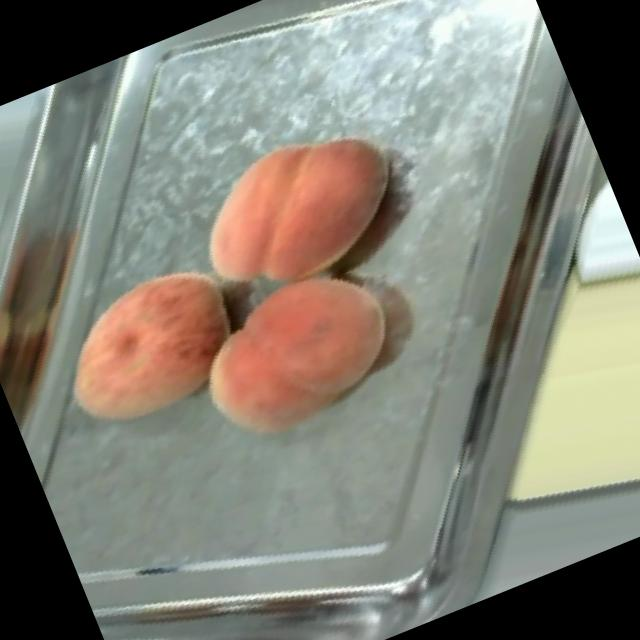Fruit: (392, 217, 640, 590), (153, 226, 444, 489), (17, 226, 284, 472), (159, 91, 433, 330)
